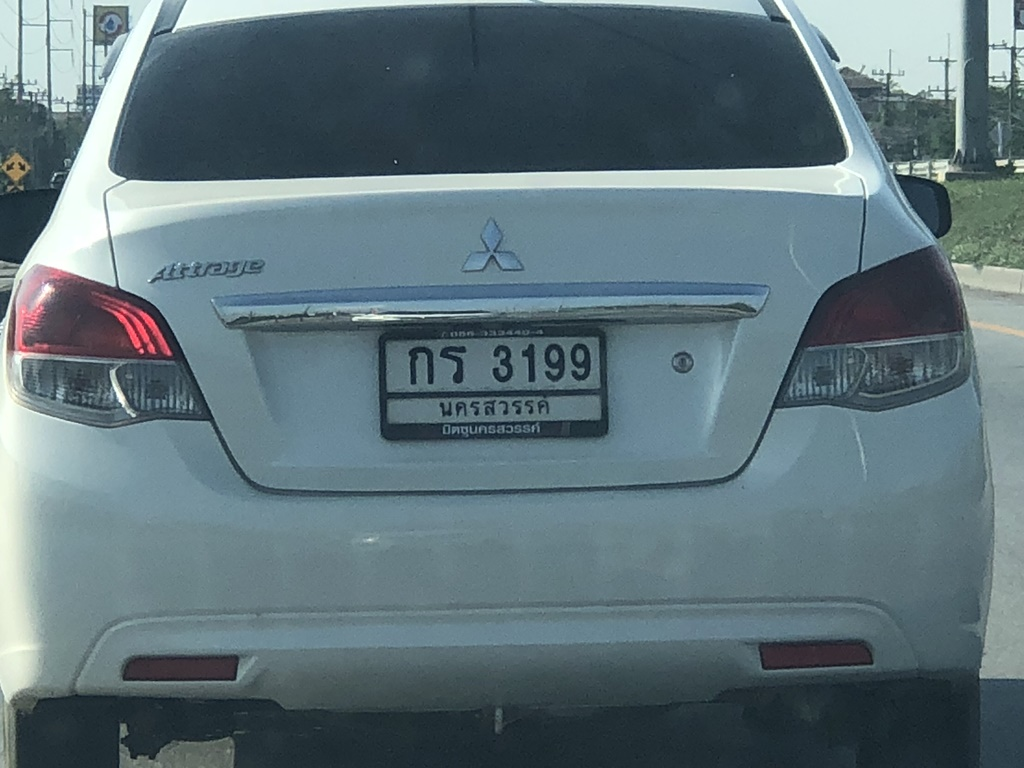three: (479, 331, 521, 391)
